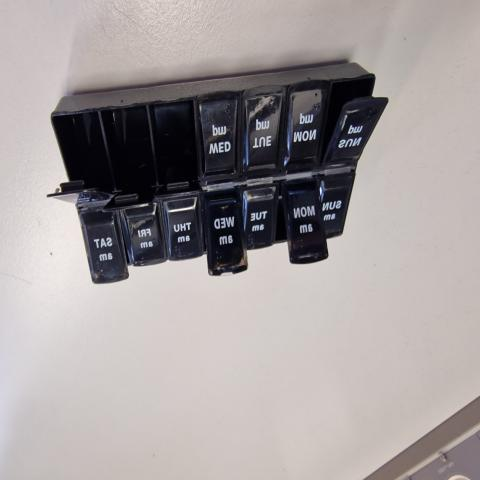Open: (101, 102, 159, 212), (47, 110, 113, 198), (321, 76, 387, 164), (150, 97, 201, 202), (273, 184, 292, 267), (119, 216, 133, 276), (202, 200, 210, 274)
